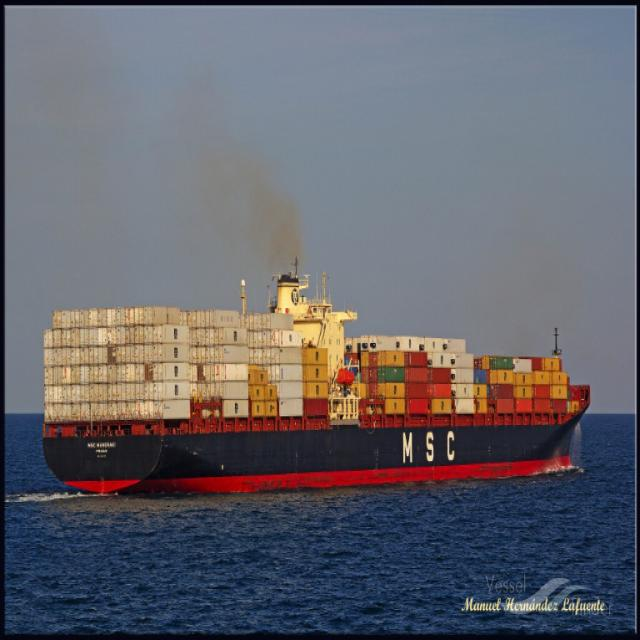Container Ship: (43, 264, 590, 494)
